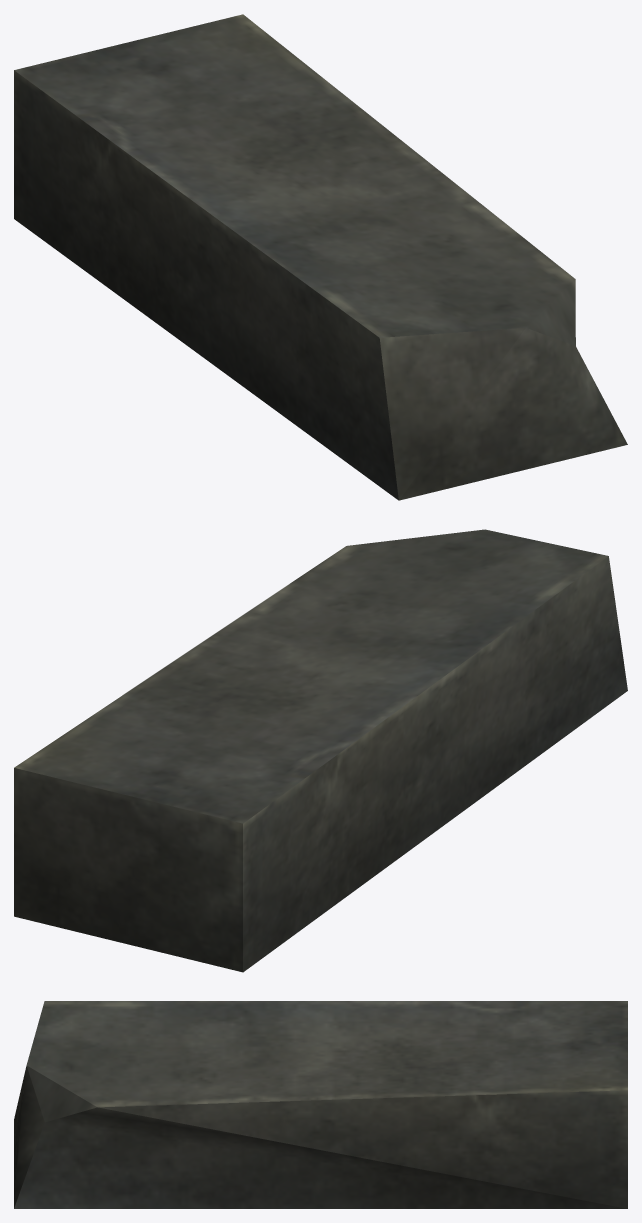
The model's file is C_taijie001.fbx.
3 views of the same model, one above another, from view 1: azimuth 30°, elevation 25°; view 2: azimuth 150°, elevation 25°; view 3: azimuth 270°, elevation 25° (orthographic). The views are drawn at different scales.
Visible parts, largest first — view 1: C_taijie001; view 2: C_taijie001; view 3: C_taijie001.
Boxes of the visible parts, <box> form: C_taijie001: <box>14,14,627,500</box>; C_taijie001: <box>14,529,627,972</box>; C_taijie001: <box>14,1001,627,1208</box>.
Bounding box in the file's own units: 36.67 × 22.76 × 107.
